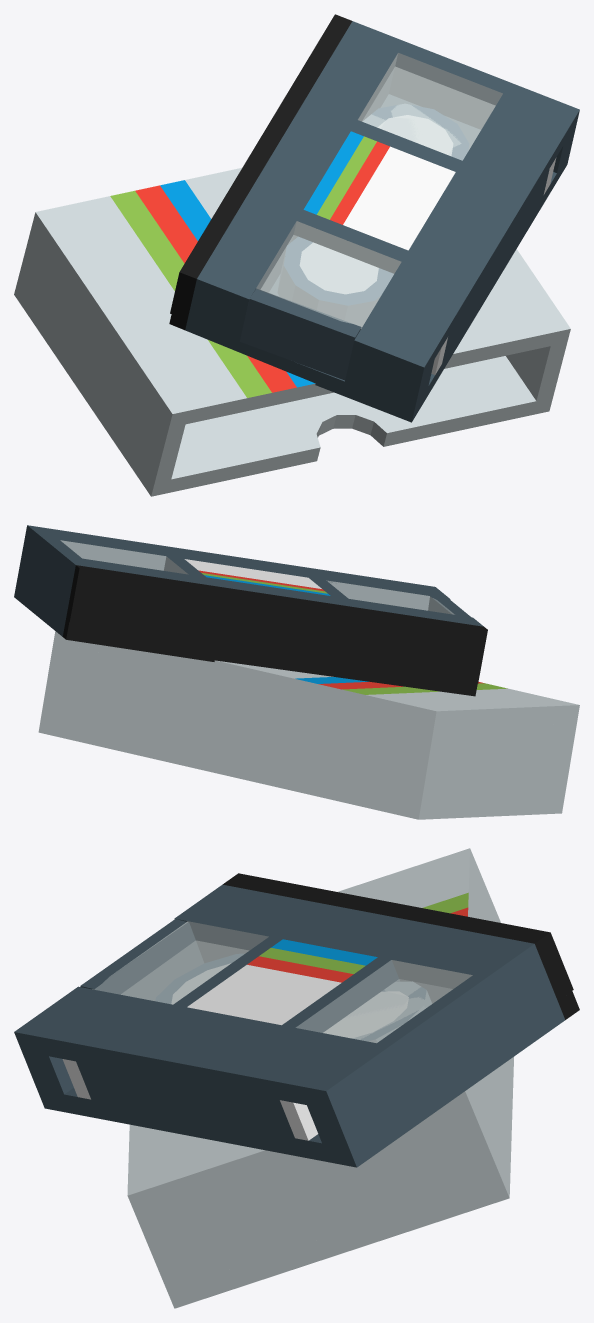
File: downloaded_movies.glb
3 renders of one model, top to bottom at view 1: azimuth 30°, elevation 25°; view 2: azimuth 150°, elevation 25°; view 3: azimuth 270°, elevation 25°, orthographic. The views are drawn at different scales.
Parts seen in each view (by area): view 1: Node; view 2: Node; view 3: Node.
Boxes of the visible parts, box(x1,y1,x2,y2) form: Node: box(14, 14, 579, 496); Node: box(14, 525, 579, 819); Node: box(14, 848, 579, 1308).
Size of the model in its own units: 1.09 by 0.6251 by 0.9291.
